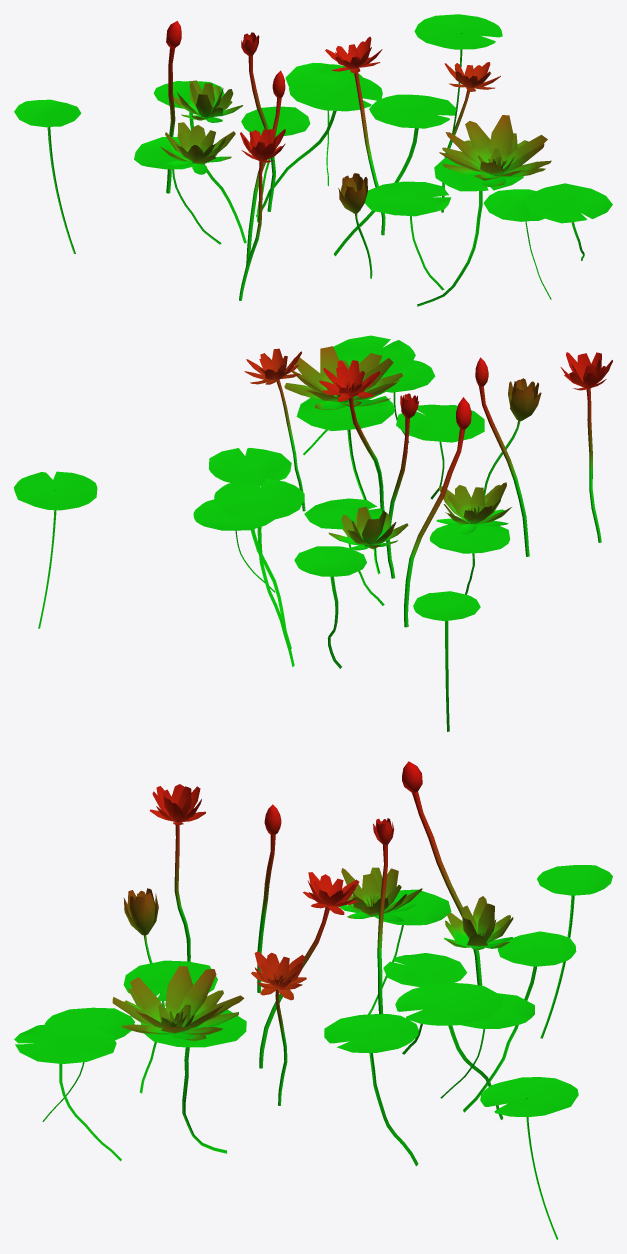
The model's file is Var6_LOD0.fbx.
The picture shows the model from 3 angles, top to bottom: view 1: azimuth 30°, elevation 25°; view 2: azimuth 150°, elevation 25°; view 3: azimuth 270°, elevation 25°; orthographic projection. The views are drawn at different scales.
Visible parts, largest first — view 1: _577a_Var6_LOD0; view 2: _577a_Var6_LOD0; view 3: _577a_Var6_LOD0.
Boxes of the visible parts, x1,y1,x2,y2 form: _577a_Var6_LOD0: (14,14,612,306); _577a_Var6_LOD0: (14,335,612,731); _577a_Var6_LOD0: (14,761,612,1239).
Bounding box in the file's own units: 146 × 85.19 × 146.
